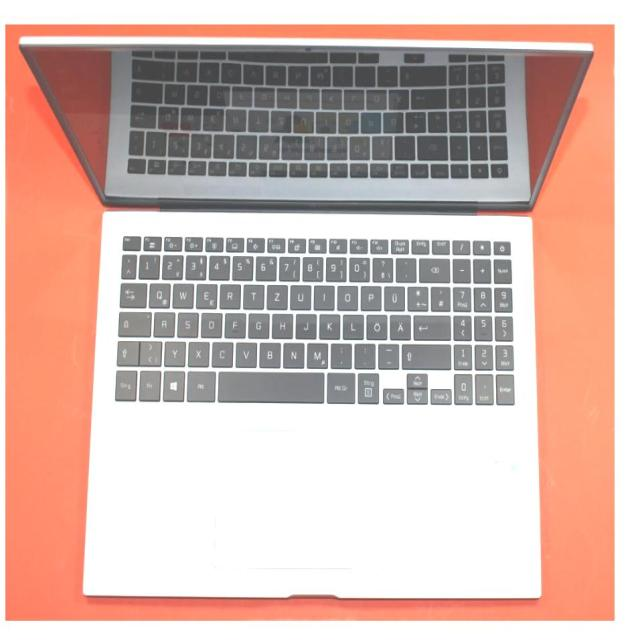0: (347, 254, 369, 280)
1: (137, 250, 158, 277)
2: (159, 251, 182, 277)
3: (183, 251, 206, 277)
4: (207, 252, 229, 278)
5: (231, 252, 253, 278)
6: (254, 253, 276, 279)
7: (276, 253, 298, 279)
8: (299, 253, 322, 279)
9: (323, 253, 345, 279)
a: (152, 308, 174, 335)
accent: (393, 254, 415, 281)
ae: (387, 311, 410, 339)
alt-left: (184, 367, 214, 400)
altgr-right: (324, 368, 354, 401)
b: (256, 339, 280, 366)
c: (209, 338, 232, 366)
caret: (119, 251, 135, 276)
comma: (328, 340, 350, 367)
d: (198, 309, 221, 336)
del: (417, 255, 450, 282)
e: (194, 279, 216, 307)
enter: (411, 311, 449, 339)
f: (223, 309, 245, 336)
g: (246, 309, 268, 337)
h: (269, 309, 292, 337)
hash: (429, 283, 450, 310)
i: (312, 281, 334, 308)
j: (294, 310, 316, 338)
k: (317, 310, 340, 338)
keyboard: (109, 228, 522, 409)
l: (340, 311, 362, 338)
less: (138, 337, 161, 364)
m: (304, 339, 327, 367)
minus: (375, 340, 398, 366)
n: (281, 339, 304, 367)
o: (334, 282, 357, 309)
oe: (364, 311, 387, 338)
p: (358, 282, 380, 309)
plus: (405, 282, 427, 309)
point: (352, 340, 375, 367)
q: (146, 279, 169, 306)
r: (217, 280, 239, 307)
s: (175, 308, 197, 335)
shift-left: (114, 338, 137, 364)
shift-lock: (116, 308, 150, 335)
shift-right: (399, 340, 449, 367)
space: (216, 368, 323, 401)
ss: (370, 254, 392, 280)
strg-left: (113, 366, 136, 399)
strg-right: (355, 369, 378, 401)
t: (241, 280, 262, 307)
tab: (117, 279, 145, 306)
u: (288, 281, 310, 308)
ue: (381, 282, 403, 309)
v: (233, 339, 256, 366)
w: (170, 279, 192, 306)
x: (186, 338, 208, 365)
y: (162, 338, 184, 365)
z: (265, 281, 287, 308)
